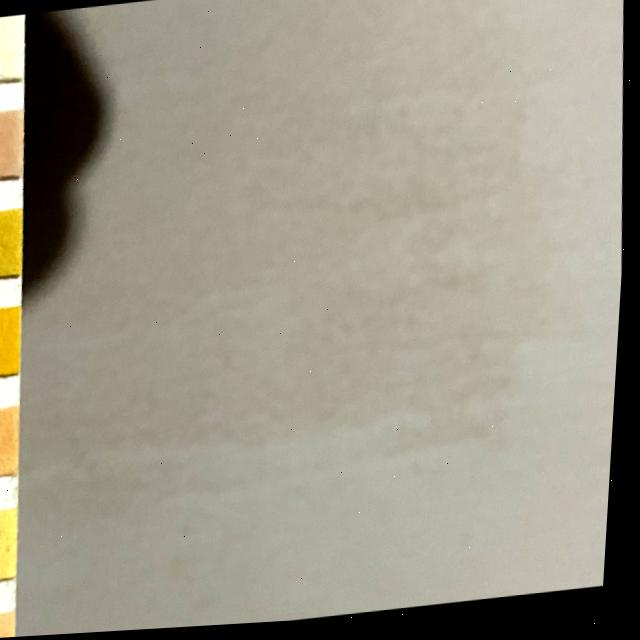Bilirubin: (0, 14, 28, 81)
Blood: (0, 305, 27, 375)
Ketone: (0, 108, 28, 178)
Protein: (0, 510, 27, 581)
SpGravity: (0, 208, 28, 276)
Urobilinogen: (0, 611, 25, 639)
pH: (0, 406, 27, 478)
